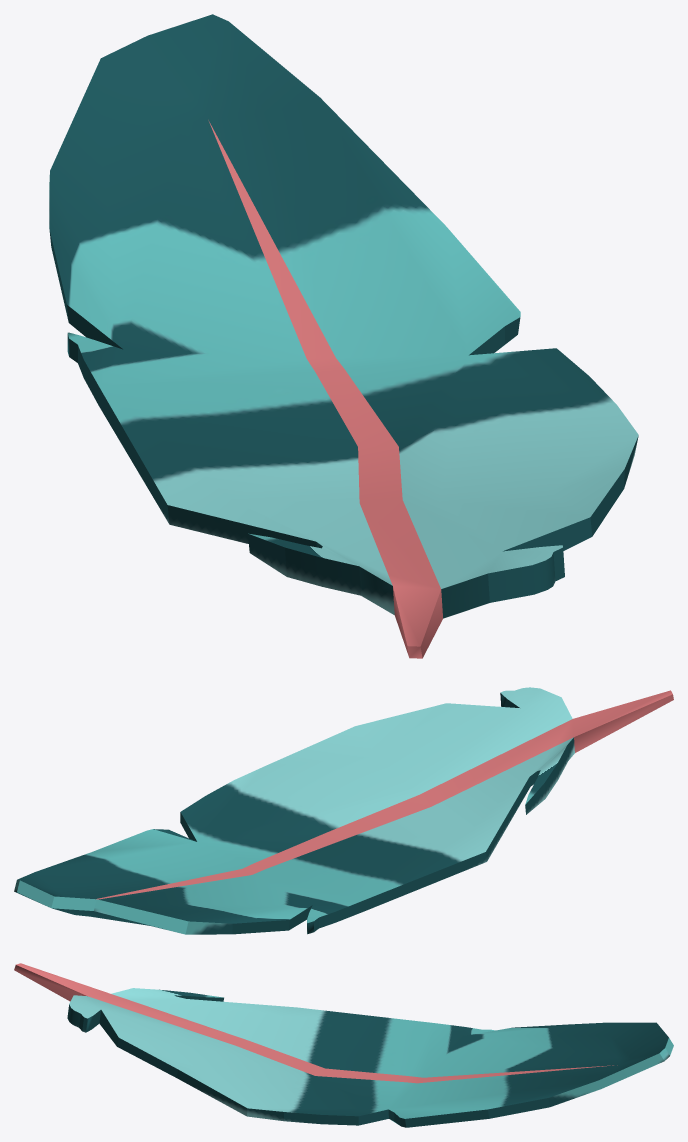
Rendered from SM_Accesory_Feather03.fbx.
3 views of the same model, one above another, from view 1: azimuth 30°, elevation 25°; view 2: azimuth 150°, elevation 25°; view 3: azimuth 270°, elevation 25° (orthographic). The views are drawn at different scales.
Parts seen in each view (by area): view 1: SM_Accesory_Feather03; view 2: SM_Accesory_Feather03; view 3: SM_Accesory_Feather03.
Boxes of the visible parts, <box> form: SM_Accesory_Feather03: <box>49,14,638,658</box>; SM_Accesory_Feather03: <box>14,687,673,934</box>; SM_Accesory_Feather03: <box>14,963,673,1127</box>.
Size of the model in its own units: 0.0429 by 0.0968 by 0.0125.
